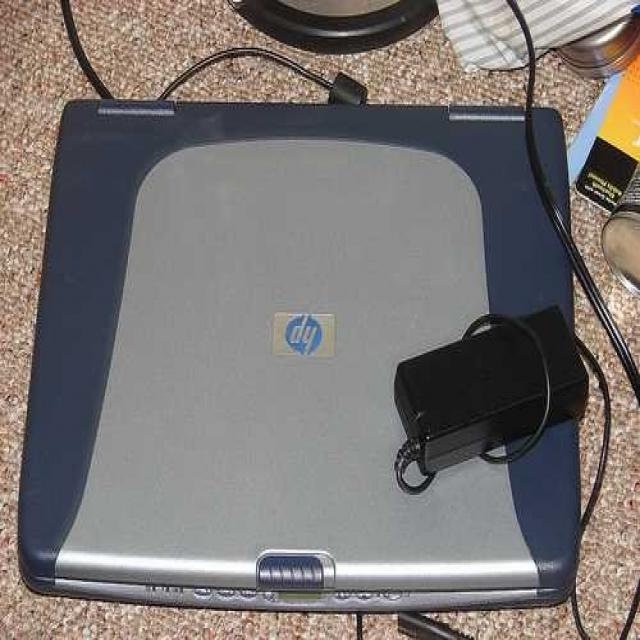laptop: (34, 96, 581, 610)
